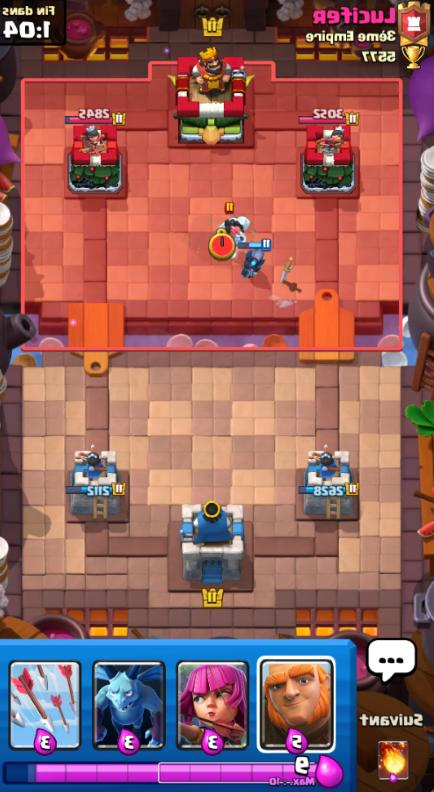mini_PEKKA: (235, 248, 278, 280)
